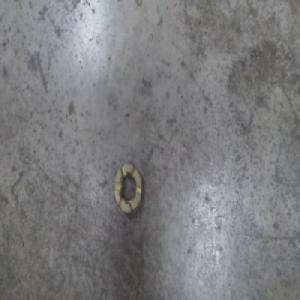Nut: (113, 160, 145, 218)
